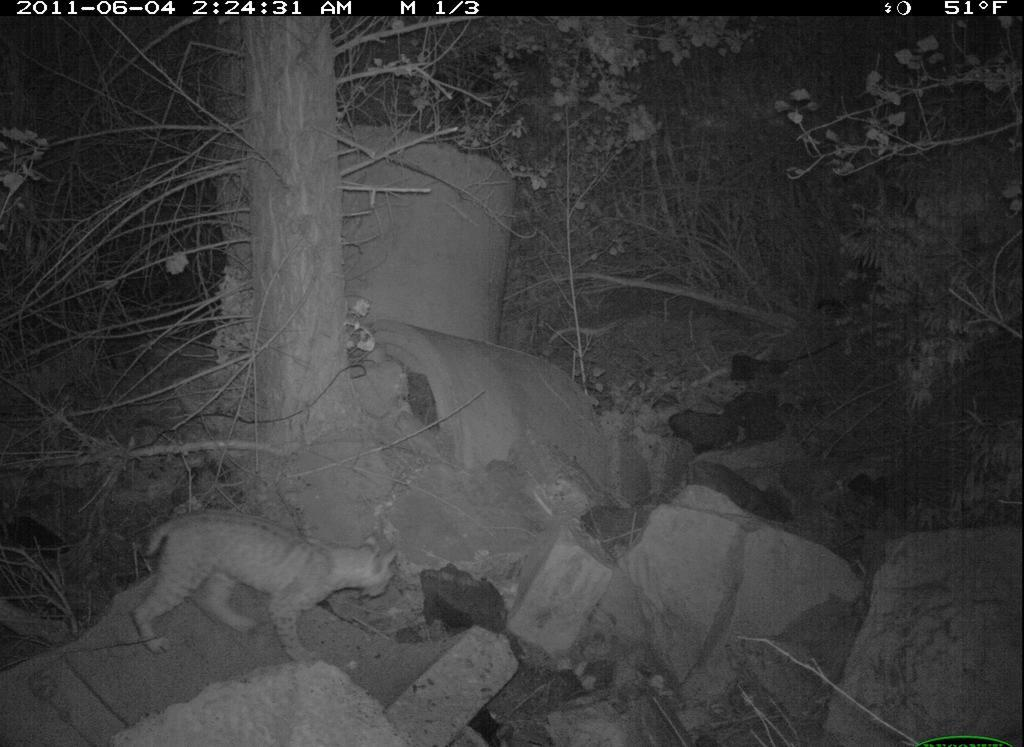bobcat: (131, 505, 397, 669)
